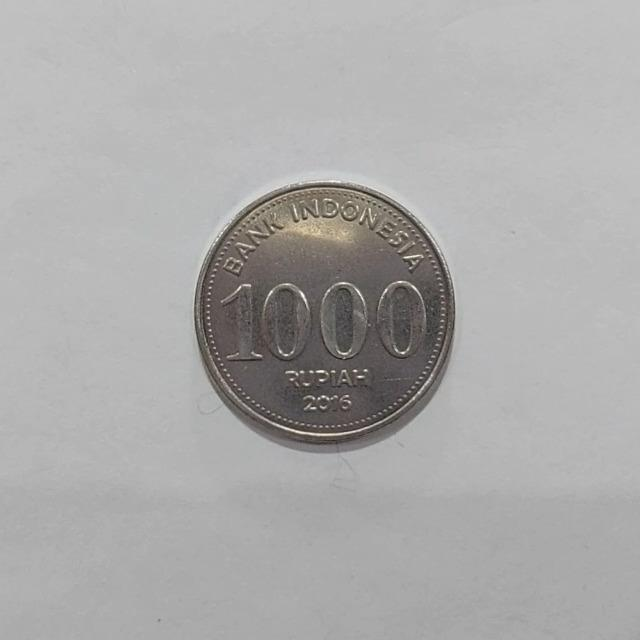Rp100: (191, 177, 456, 452)
